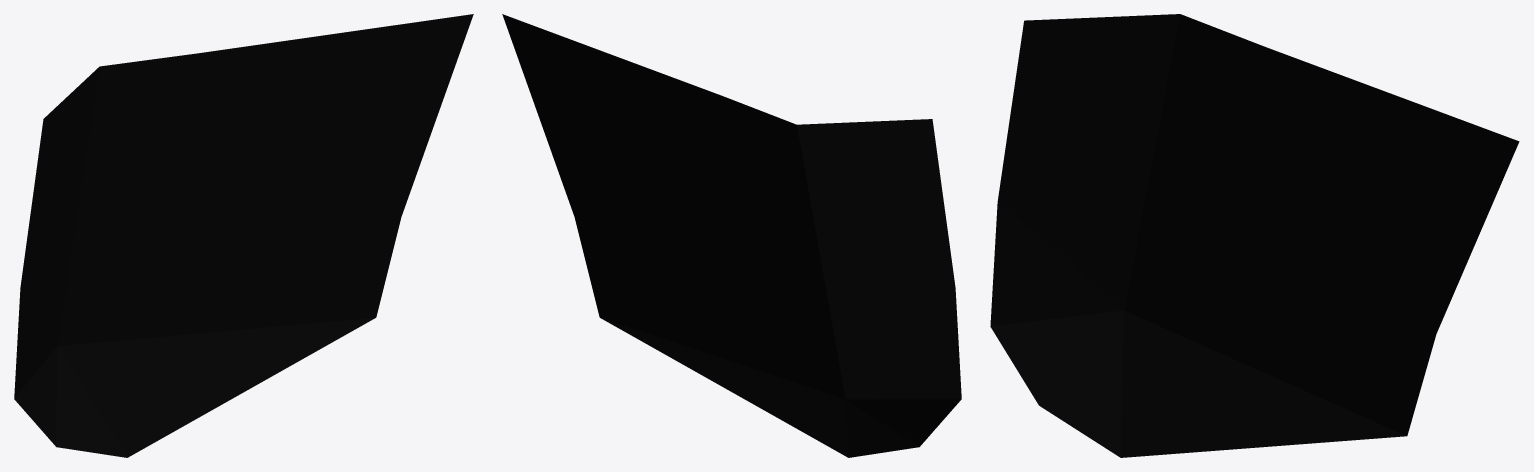
3 renders of one model, left to right at view 1: azimuth 30°, elevation 25°; view 2: azimuth 150°, elevation 25°; view 3: azimuth 330°, elevation 25°, orthographic. The views are drawn at different scales.
Size of the model in its own units: 0.9173 by 0.6856 by 0.1375.
Materials: 1 (1 with a texture image).
